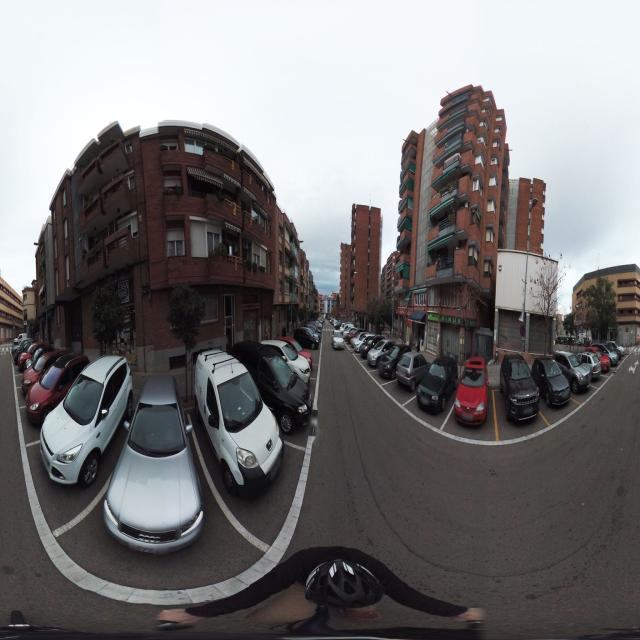forb_stopping: (519, 325, 526, 338)
